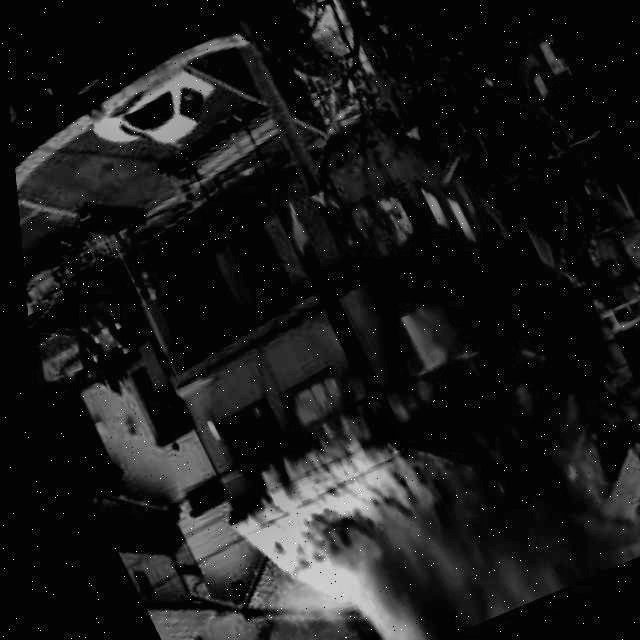Fire: (257, 119, 597, 493), (260, 368, 349, 436)
Smoke: (191, 342, 640, 640)
